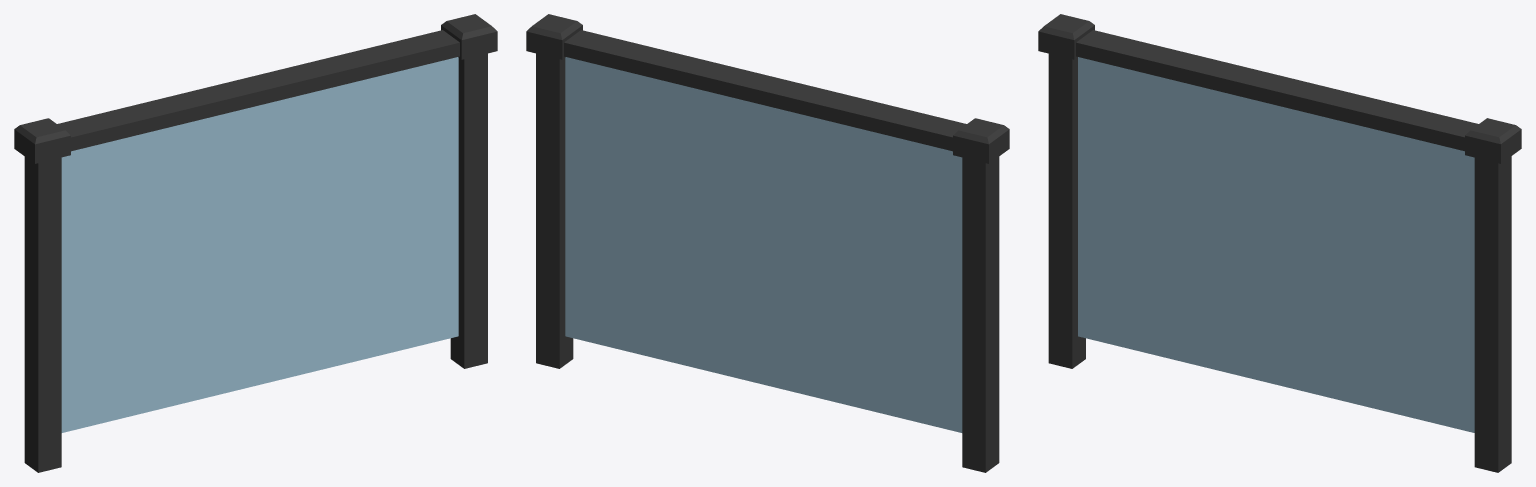
Rendered from StairsPart3_C1.fbx.
3 renders of one model, left to right at view 1: azimuth 30°, elevation 25°; view 2: azimuth 150°, elevation 25°; view 3: azimuth 330°, elevation 25°, orthographic.
Parts seen in each view (by area): view 1: StairsPart3_C1; view 2: StairsPart3_C1; view 3: StairsPart3_C1.
Part boxes in pixels (box(x1,y1,x2,y2)): StairsPart3_C1: box(14, 14, 497, 472); StairsPart3_C1: box(526, 14, 1009, 472); StairsPart3_C1: box(1038, 14, 1521, 472).
Bounding box in the file's own units: 1.42 × 0.9899 × 0.1102.
